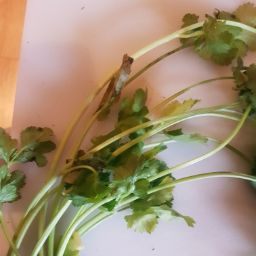Cilantro: (8, 21, 249, 253), (107, 13, 256, 256), (4, 108, 215, 256), (90, 54, 208, 256)
